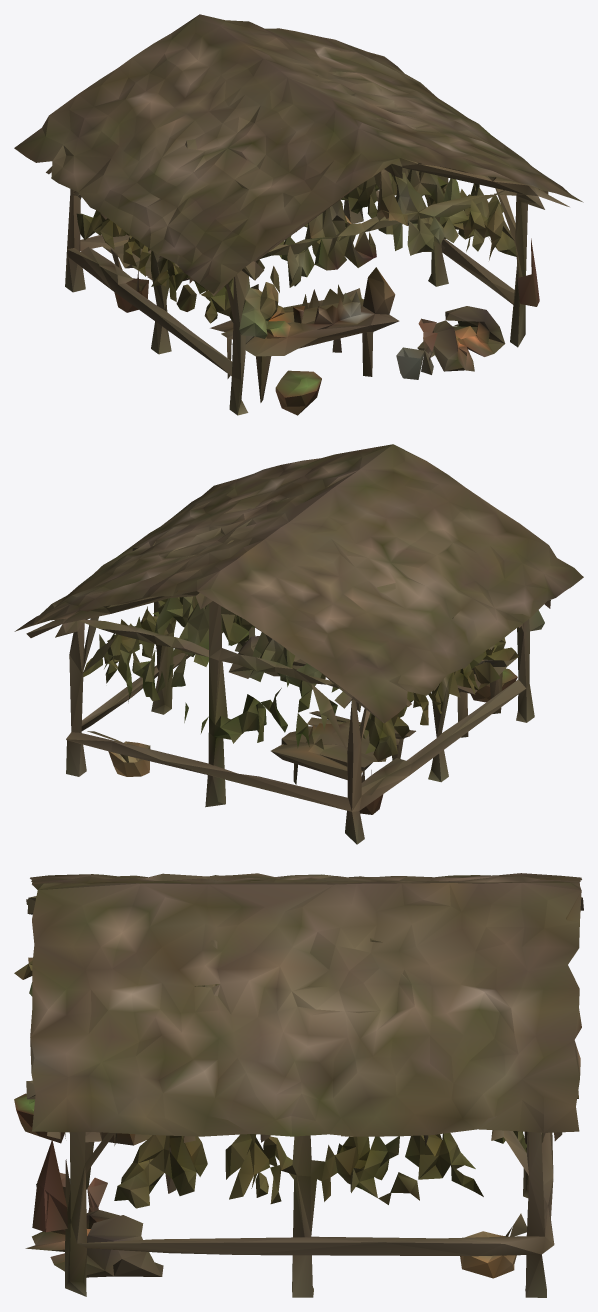
File: bq_incense.vc.glb
3 renders of one model, top to bottom at view 1: azimuth 30°, elevation 25°; view 2: azimuth 150°, elevation 25°; view 3: azimuth 270°, elevation 25°, orthographic. The views are drawn at different scales.
Visible parts, largest first — view 1: bq_incense; view 2: bq_incense; view 3: bq_incense.
Part boxes in pixels (x1=…): bq_incense: x1=14, y1=14, x2=583, y2=415; bq_incense: x1=14, y1=444, x2=583, y2=844; bq_incense: x1=14, y1=873, x2=583, y2=1297.
Bounding box in the file's own units: 1.89 × 1.12 × 1.81.
